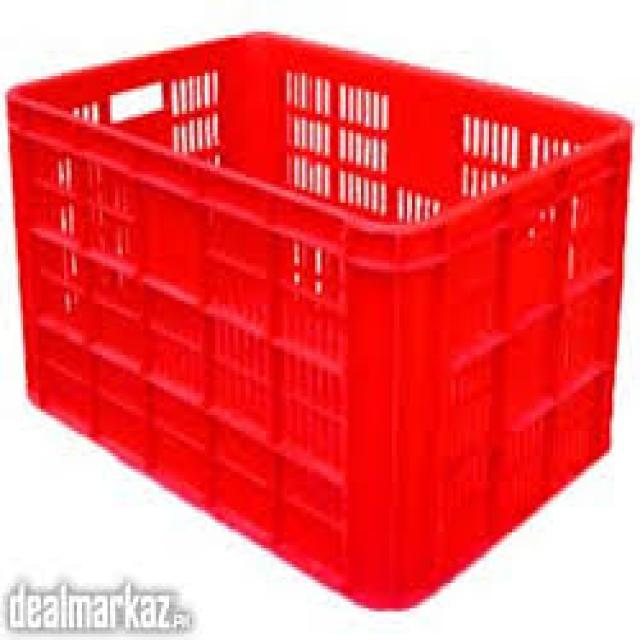basket: (0, 16, 637, 620)
